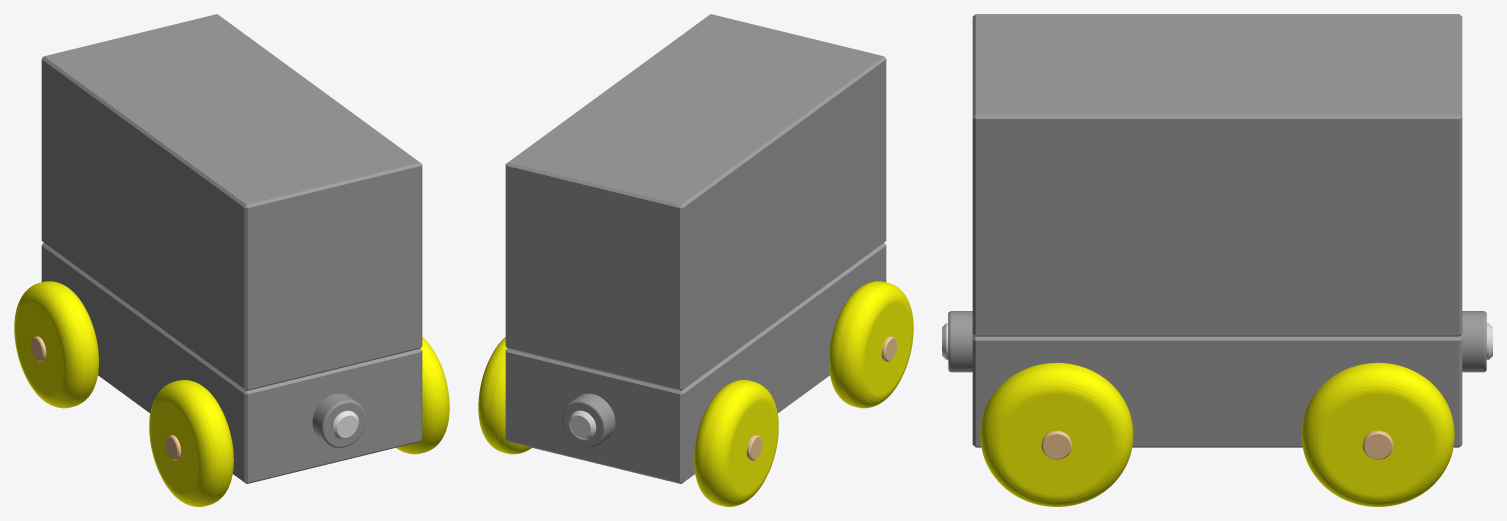
3 views of the same model, side by side, from view 1: azimuth 30°, elevation 25°; view 2: azimuth 150°, elevation 25°; view 3: azimuth 270°, elevation 25° (orthographic). The views are drawn at different scales.
Visible parts, largest first — view 1: out-pan, out-wheel_000-rwheel, out-wheel_001-lwheel, out-wheel_001-rwheel, out-back_coupling-cover, out-back_coupling-magnet; view 2: out-pan, out-wheel_001-lwheel, out-wheel_000-rwheel, out-wheel_000-lwheel, out-front_coupling-cover, out-front_coupling-magnet; view 3: out-pan, out-wheel_000-lwheel, out-wheel_001-rwheel, out-front_coupling-cover, out-back_coupling-cover, out-wheel_001-axle, out-wheel_000-axle.
Part boxes in pixels (x1,y1,x2,y2): out-pan: (41, 14, 422, 483); out-wheel_000-rwheel: (14, 281, 98, 408); out-wheel_001-lwheel: (149, 380, 233, 506); out-wheel_001-rwheel: (396, 337, 449, 454); out-back_coupling-cover: (312, 393, 366, 447); out-back_coupling-magnet: (331, 410, 359, 439); out-pan: (505, 14, 886, 483); out-wheel_001-lwheel: (829, 281, 913, 408); out-wheel_000-rwheel: (694, 380, 778, 506); out-wheel_000-lwheel: (478, 337, 531, 454); out-front_coupling-cover: (561, 393, 615, 447); out-front_coupling-magnet: (568, 410, 596, 439); out-pan: (972, 14, 1462, 447); out-wheel_000-lwheel: (1301, 362, 1454, 506); out-wheel_001-rwheel: (980, 362, 1133, 506); out-front_coupling-cover: (1462, 311, 1486, 372); out-back_coupling-cover: (948, 311, 972, 372); out-wheel_001-axle: (1041, 430, 1072, 459); out-wheel_000-axle: (1362, 430, 1393, 459).
Size of the model in its own units: 0.023 by 0.0272 by 0.036.
